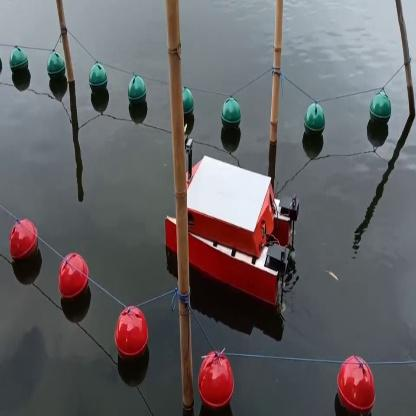green_buoy: (304, 104, 327, 144), (368, 93, 392, 131), (88, 60, 107, 104), (9, 44, 29, 81), (46, 49, 65, 86), (131, 72, 146, 110), (226, 93, 240, 130), (182, 86, 195, 124)
red_buoy: (198, 348, 235, 412), (116, 304, 146, 363), (338, 358, 369, 414), (57, 254, 89, 308), (13, 218, 40, 268)
